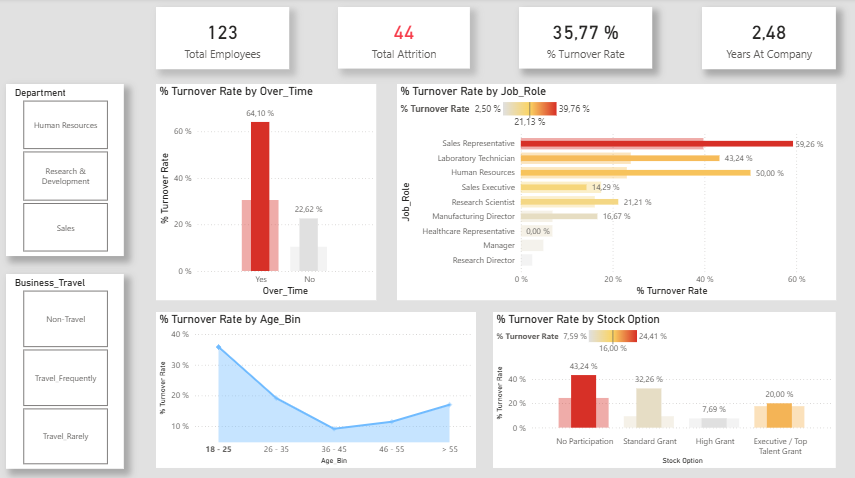

This screenshot's page, from the dashboard's own definition file:
{"tool":"powerbi","page":{"name":"Turnover analysis","canvas":[1280,720],"ordinal":1},"visuals":[{"type":"slicer","fields":{"Values":["Dim_JobDetails.Department"]},"box":[10.5,128.5,176.3,256.9],"z":0},{"type":"slicer","fields":{"Values":["Dim_JobDetails.Business_Travel"]},"box":[10.5,412.3,176.3,291.3],"z":1000},{"type":"card","fields":{"Values":["_Measures.% Turnover Rate"]},"box":[777.4,13.4,199.3,92.3],"z":2000,"group":"g1"},{"type":"card","fields":{"Values":["_Measures.Total Attrition"]},"box":[506.7,13.4,197.4,92.3],"z":3000,"group":"g1"},{"type":"card","fields":{"Values":["_Measures.Years At Company"]},"box":[1050,13.4,200.3,92.6],"z":4000,"group":"g1"},{"type":"card","title":"Total Empoyees","fields":{"Values":["_Measures.Total Employees"]},"box":[234.5,13.4,198.8,92.6],"z":5000,"group":"g1"},{"type":"clusteredColumnChart","title":"% Turnover Rate by Over_Time","fields":{"Category":["Dim_Satisfaction.Over_Time"],"Y":["_Measures.% Turnover Rate"]},"box":[234.5,128.5,328.6,322.7],"z":6000},{"type":"clusteredBarChart","title":"% Turnover Rate by Job_Role","fields":{"Category":["Dim_JobDetails.Job_Role"],"Y":["_Measures.% Turnover Rate"]},"box":[594.5,128.5,655.8,322.7],"z":7000},{"type":"areaChart","title":"% Turnover Rate by Age_Bin","fields":{"Category":["Dim_Employee.Age_Bin"],"Y":["_Measures.% Turnover Rate"]},"box":[234.5,469,478,233],"z":8000},{"type":"clusteredColumnChart","title":"% Turnover Rate by Stock Option","fields":{"Category":["Dim_PerformancePay.Stock_Option_Level_Description"],"Y":["_Measures.% Turnover Rate"]},"box":[737.9,469,512.4,233],"z":9000},{"type":"group","id":"g1","title":"Grupo 1","box":[234.5,13.4,1015.8,92.6],"z":9001}]}

Visuals, with their boxes in screenshot pixels (x1, y1, x2, y2), scaled from the page's 1280x720 canvas onto the 855x478 screenshot:
slicer - Dim_JobDetails.Department: crop(7, 85, 125, 256)
slicer - Dim_JobDetails.Business_Travel: crop(7, 274, 125, 467)
card - _Measures.% Turnover Rate: crop(519, 9, 652, 70)
card - _Measures.Total Attrition: crop(338, 9, 470, 70)
card - _Measures.Years At Company: crop(701, 9, 835, 70)
"Total Empoyees" card: crop(157, 9, 289, 70)
"% Turnover Rate by Over_Time" clusteredColumnChart: crop(157, 85, 376, 300)
"% Turnover Rate by Job_Role" clusteredBarChart: crop(397, 85, 835, 300)
"% Turnover Rate by Age_Bin" areaChart: crop(157, 311, 476, 466)
"% Turnover Rate by Stock Option" clusteredColumnChart: crop(493, 311, 835, 466)
"Grupo 1" group: crop(157, 9, 835, 70)
